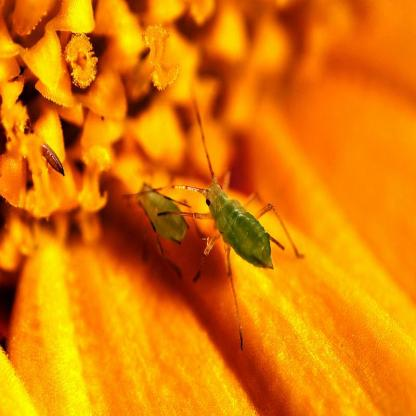aphid: (186, 129, 305, 308), (124, 173, 193, 264)
